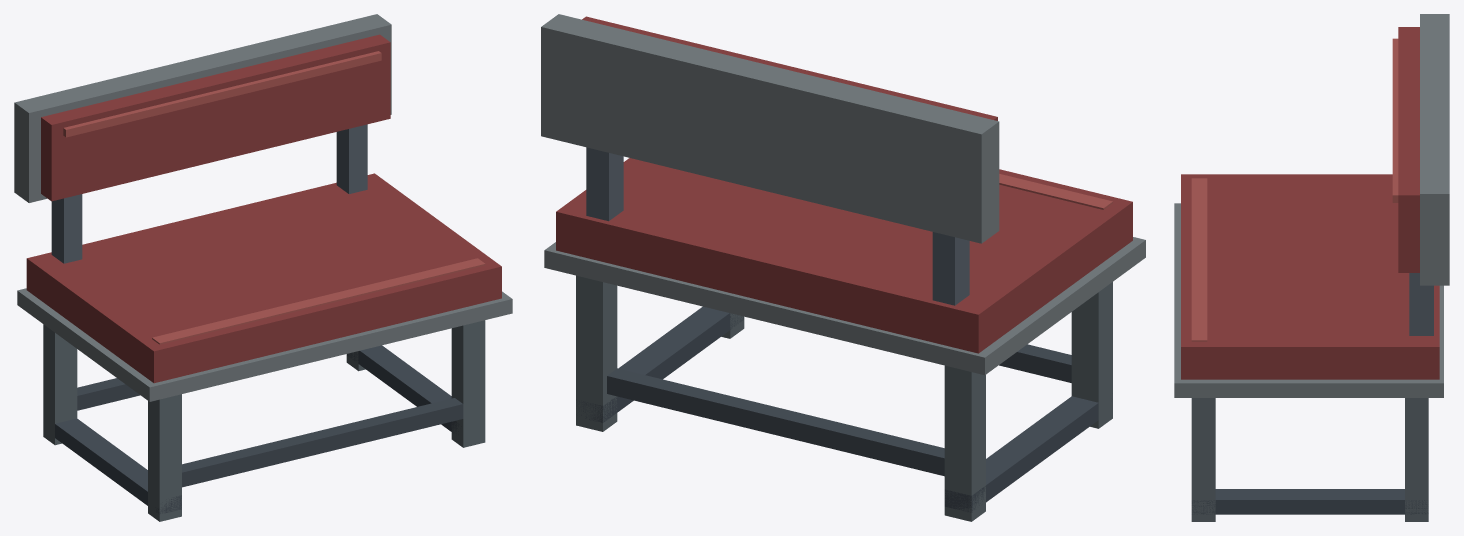
The model's file is CMU3DRedComfyBench.glb.
3 views of the same model, side by side, from view 1: azimuth 30°, elevation 25°; view 2: azimuth 150°, elevation 25°; view 3: azimuth 270°, elevation 25° (orthographic). The views are drawn at different scales.
Visible parts, largest first — view 1: seat cushion, back cushion, bench leg (×3), back metal rim, seat metal pan, lower horizontal stretcher (×2), side floor runner (×2), back support (×2), back upper seam, seat top seam; view 2: back metal rim, seat cushion, bench leg (×3), seat metal pan, lower horizontal stretcher (×2), side floor runner (×2), back support (×2), back cushion, seat top seam; view 3: seat cushion, back metal rim, seat metal pan, bench leg (×2), back cushion, side floor runner, seat top seam, back support, back upper seam.
Part boxes in pixels (x1,y1,x2,y2): seat cushion: (26,173,501,383); back cushion: (41,34,390,201); bench leg (×3): (43,320,485,521); back metal rim: (14,14,391,202); seat metal pan: (17,288,512,401); lower horizontal stretcher (×2): (77,378,463,487); side floor runner (×2): (55,345,461,514); back support (×2): (51,124,367,263); back upper seam: (63,51,381,137); seat top seam: (152,258,485,344); back metal rim: (541,14,999,243); seat cushion: (556,158,1132,353); bench leg (×3): (576,275,1112,521); seat metal pan: (544,237,1145,375); lower horizontal stretcher (×2): (607,344,1071,476); side floor runner (×2): (576,306,1098,512); back support (×2): (586,147,969,305); back cushion: (582,16,997,120); seat top seam: (999,174,1112,209); seat cushion: (1181,174,1439,379); back metal rim: (1420,14,1449,285); seat metal pan: (1174,203,1443,397); bench leg (×2): (1191,398,1428,521); back cushion: (1398,27,1419,272); side floor runner: (1191,489,1428,514); seat top seam: (1191,178,1207,341); back support: (1409,273,1433,335); back upper seam: (1392,38,1398,202).
Size of the model in its own units: 0.98 by 0.855 by 0.633.
